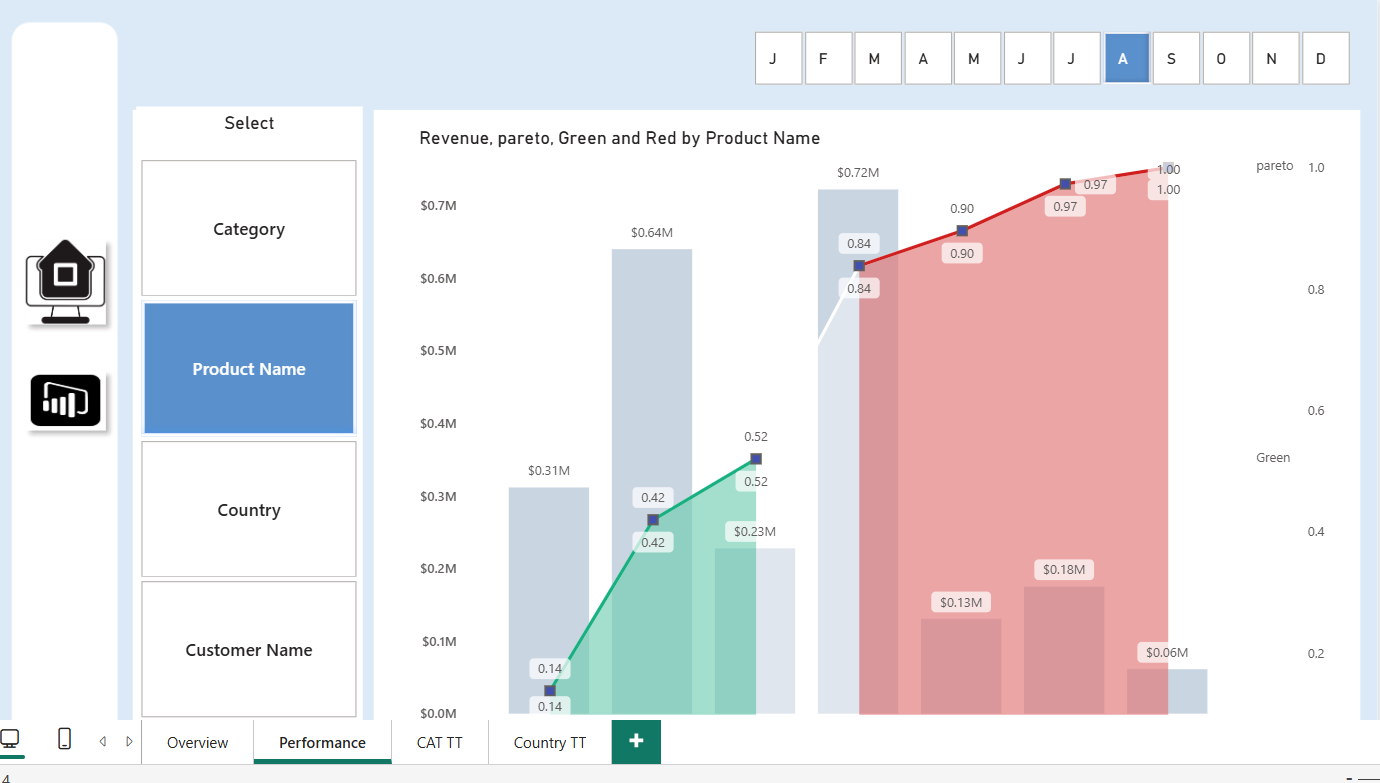

The dashboard page shown, as its layout file describes it:
{"tool":"powerbi","page":{"name":"Performance","canvas":[1280,720],"ordinal":1},"visuals":[{"type":"lineStackedColumnComboChart","fields":{"Category":["Products.Category"],"Y":["MeaureTable.Revenue","select"],"Y2":["select1","select2","select3"]},"box":[387.3,118.2,849.4,573.5],"z":0},{"type":"advancedSlicerVisual","fields":{"Values":["Par_Parameter.Par_Parameter"]},"box":[130.8,99.9,209.6,590.8],"z":1000},{"type":"advancedSlicerVisual","fields":{"Values":["Calendar.Month Initials"]},"box":[703.3,25.3,558.4,59.1],"z":2000},{"type":"actionButton","box":[19.2,213.8,91.8,95.9],"z":3000},{"type":"actionButton","box":[19.2,335.8,91.8,72.6],"z":4000}]}

Visuals, with their boxes on the page's 1280x720 design canvas (x1, y1, x2, y2). These are canvas units, not pixel positions in the 1380x783 screenshot, which may show the page scaled, cropped or inside an application window:
lineStackedColumnComboChart - Products.Category x MeaureTable.Revenue: bbox=(387, 118, 1237, 692)
advancedSlicerVisual - Par_Parameter.Par_Parameter: bbox=(131, 100, 340, 691)
advancedSlicerVisual - Calendar.Month Initials: bbox=(703, 25, 1262, 84)
actionButton: bbox=(19, 214, 111, 310)
actionButton: bbox=(19, 336, 111, 408)
